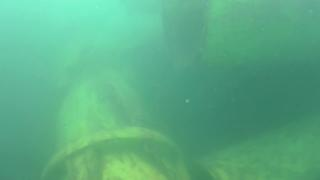pipe: (40, 63, 189, 180), (159, 1, 320, 70), (195, 110, 320, 180)
